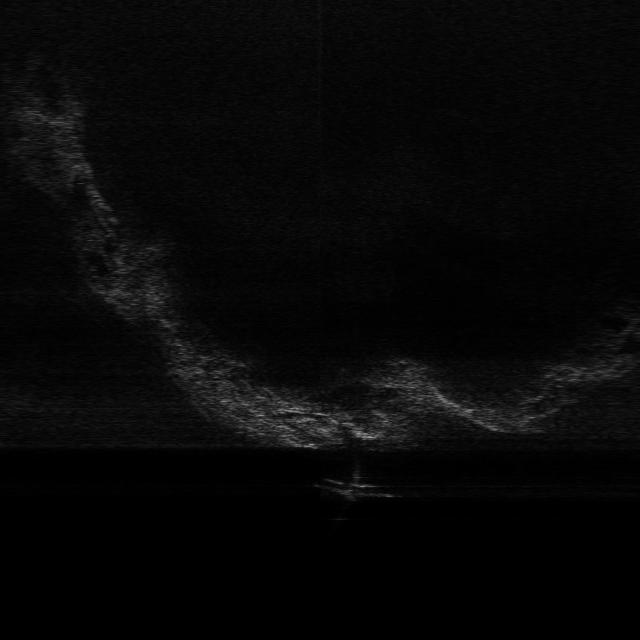plane: (313, 474, 403, 503)
